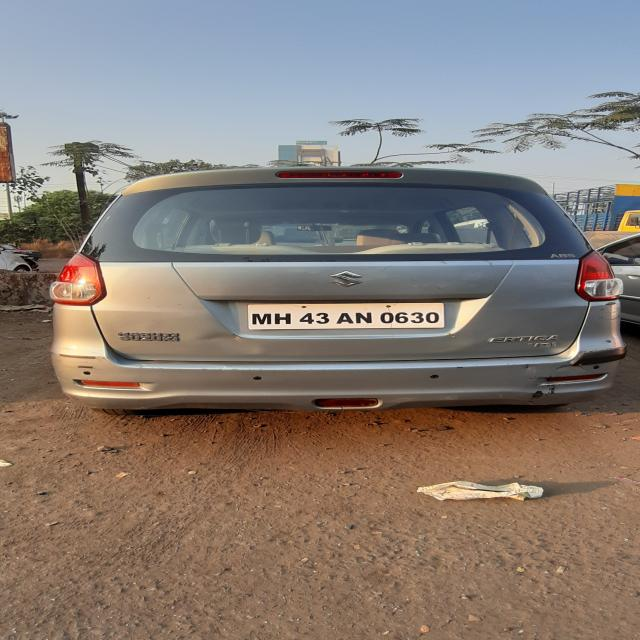Number-Plate: (253, 303, 444, 326)
